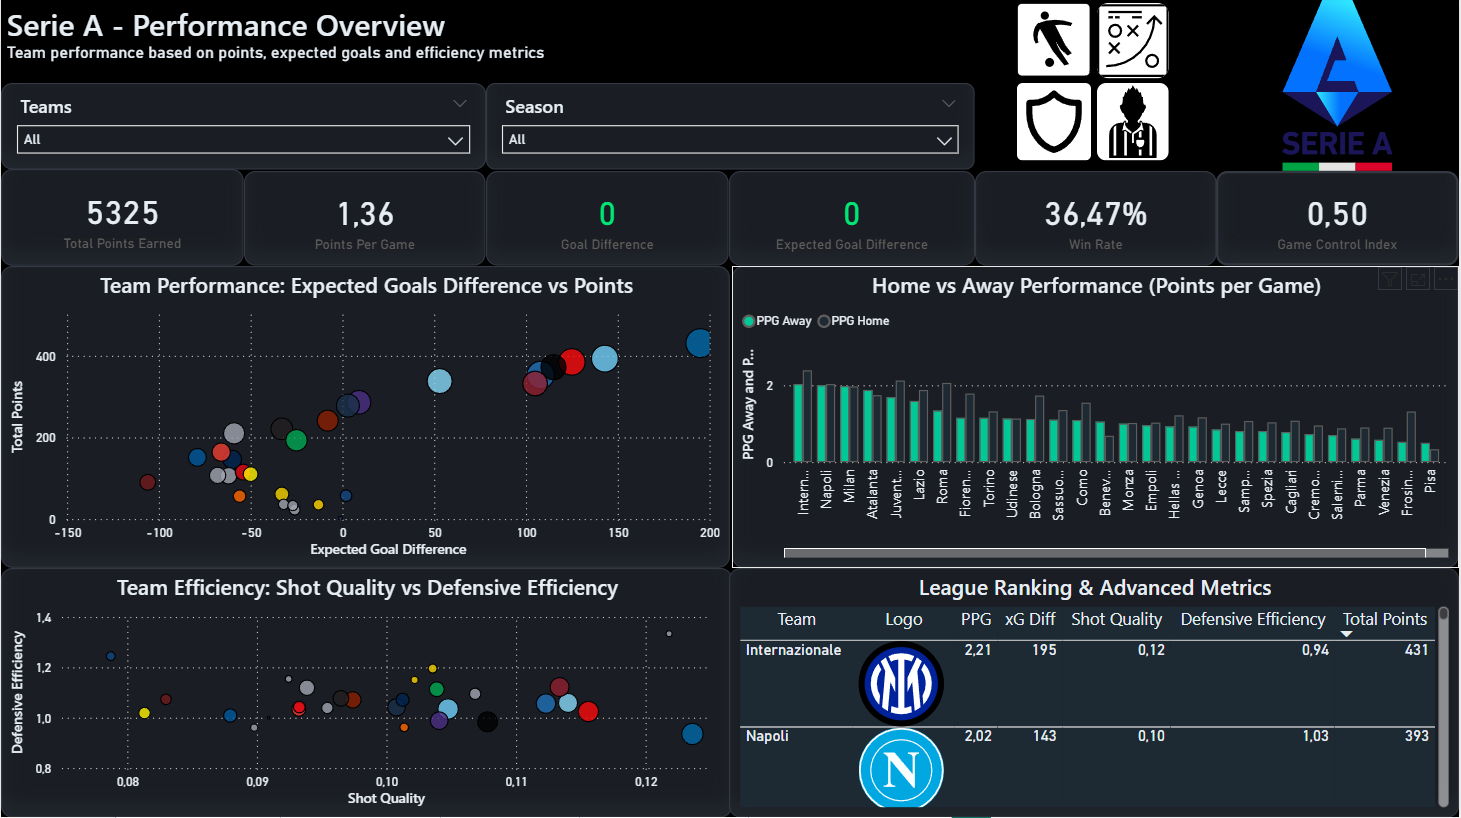

What the dashboard file says about the page in this screenshot:
{"tool":"powerbi","page":{"name":"Performance Overview","canvas":[1280,720],"ordinal":0},"visuals":[{"type":"card","fields":{"Values":["matches_seriea.Total Points"]},"box":[0,151,213.4,85.2],"z":0},{"type":"card","fields":{"Values":["matches_seriea.Goal Diff"]},"box":[425.9,152.8,213.4,83.4],"z":1000},{"type":"card","fields":{"Values":["matches_seriea.PPG"]},"box":[213.4,152.8,212.5,83.4],"z":2000},{"type":"card","fields":{"Values":["matches_seriea.xG Diff"]},"box":[639.2,152.8,216,83.4],"z":3000},{"type":"card","fields":{"Values":["matches_seriea.Win Rate %"]},"box":[855.2,152.8,212.5,83.4],"z":4000},{"type":"card","fields":{"Values":["matches_seriea.Game Control Ratio"]},"box":[1066.8,152.8,213.4,83.4],"z":5000},{"type":"slicer","fields":{"Values":["matches_seriea.team"]},"box":[0,75.5,425.9,75.5],"z":6000},{"type":"slicer","fields":{"Values":["matches_seriea.season"]},"box":[425.9,75.5,429.4,75.5],"z":7000},{"type":"scatterChart","title":"Team Performance: Expected Goals Difference vs Points","fields":{"X":["matches_seriea.xG Diff"],"Y":["matches_seriea.Total Points"],"Size":["matches_seriea.Total Goals"],"Category":["SERIE A LOGOS - Foglio1 (1).Team"]},"box":[0,236.2,640.1,265.2],"z":8000},{"type":"clusteredColumnChart","title":"Home vs Away Performance (Points per Game)","fields":{"Category":["matches_seriea.team"],"Y":["matches_seriea.PPG Away","matches_seriea.PPG Home"]},"box":[641.9,236.2,638.3,265.2],"z":9000},{"type":"scatterChart","title":"Team Efficiency: Shot Quality vs Defensive Efficiency","fields":{"X":["matches_seriea.Shot Quality"],"Y":["matches_seriea.Defensive Efficiency"],"Size":["matches_seriea.Total Points"],"Category":["SERIE A LOGOS - Foglio1 (1).Team"]},"box":[0,501.4,641.9,218.6],"z":10000},{"type":"tableEx","title":"League Ranking & Advanced Metrics","fields":{"Values":["matches_seriea.team","SERIE A LOGOS - Foglio1 (1).URL","matches_seriea.PPG","matches_seriea.xG Diff","matches_seriea.Shot Quality","matches_seriea.Defensive Efficiency","matches_seriea.Total Points"]},"box":[639.2,501.4,641,218.6],"z":11000},{"type":"textbox","box":[0,0,639.2,75.5],"z":12000},{"type":"image","box":[887.1,0,74.9,75.9],"z":13000},{"type":"image","box":[891.9,75.9,65.2,68.1],"z":14000},{"type":"image","box":[961.9,4.9,63.2,66.1],"z":15000},{"type":"image","box":[961.9,75.9,63.2,68.1],"z":16000},{"type":"image","box":[1067,2.9,213,149.8],"z":17000}]}

Visuals, with their boxes in screenshot pixels (x1, y1, x2, y2), scaled from the page's 1280x720 canvas onto the 1461x818 screenshot:
card - matches_seriea.Total Points: region(0, 172, 244, 268)
card - matches_seriea.Goal Diff: region(486, 174, 730, 268)
card - matches_seriea.PPG: region(244, 174, 486, 268)
card - matches_seriea.xG Diff: region(730, 174, 976, 268)
card - matches_seriea.Win Rate %: region(976, 174, 1219, 268)
card - matches_seriea.Game Control Ratio: region(1218, 174, 1460, 268)
slicer - matches_seriea.team: region(0, 86, 486, 172)
slicer - matches_seriea.season: region(486, 86, 976, 172)
"Team Performance: Expected Goals Difference vs Points" scatterChart: region(0, 268, 731, 570)
"Home vs Away Performance (Points per Game)" clusteredColumnChart: region(733, 268, 1460, 570)
"Team Efficiency: Shot Quality vs Defensive Efficiency" scatterChart: region(0, 570, 733, 817)
"League Ranking & Advanced Metrics" tableEx: region(730, 570, 1460, 817)
textbox: region(0, 0, 730, 86)
image: region(1013, 0, 1098, 86)
image: region(1018, 86, 1092, 164)
image: region(1098, 6, 1170, 81)
image: region(1098, 86, 1170, 164)
image: region(1218, 3, 1460, 173)
